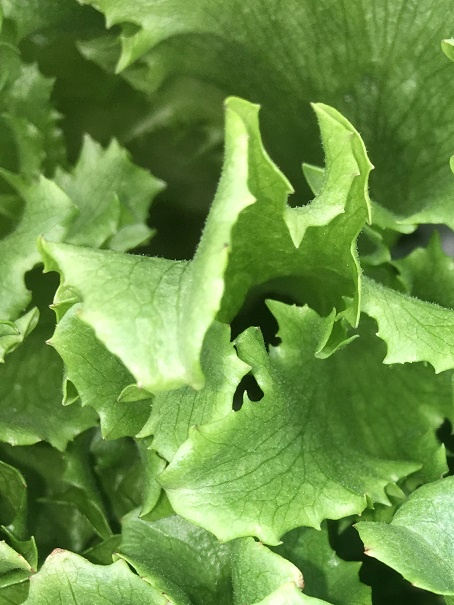tipburn: (30, 227, 50, 249), (188, 377, 204, 397), (132, 377, 148, 395), (360, 542, 376, 560), (294, 571, 307, 592), (158, 589, 175, 605), (73, 306, 91, 320), (41, 336, 60, 349), (49, 545, 68, 558), (218, 238, 234, 253), (254, 535, 269, 550), (45, 299, 63, 311), (26, 563, 40, 577), (108, 547, 121, 561), (18, 479, 31, 492), (98, 432, 113, 443), (224, 319, 236, 332), (136, 572, 149, 583)
